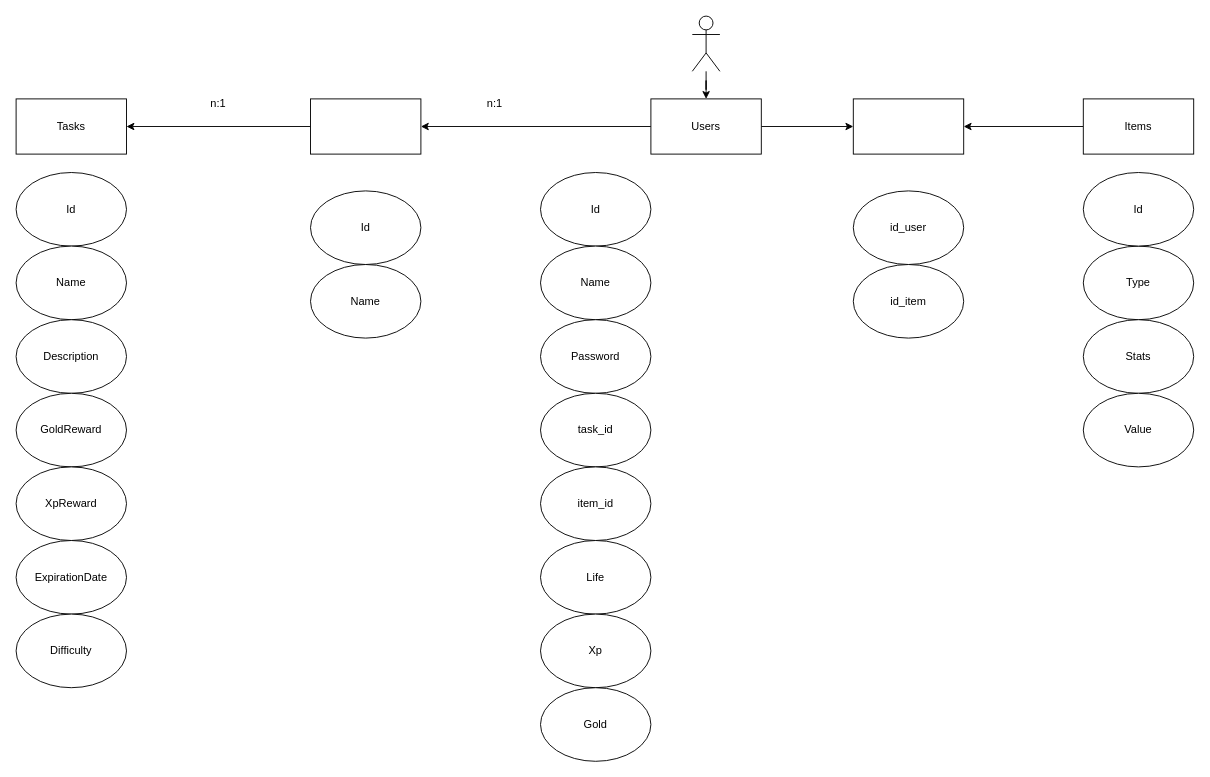
The diagram is 1210 pixels wide and 777 high, and some of its shapes have lost their labels. Here are the shapes that lost their labels. From the top down, the centre of each, then its label:
point (705, 43): Actor
point (365, 126): Categorias
point (908, 126): User Items
